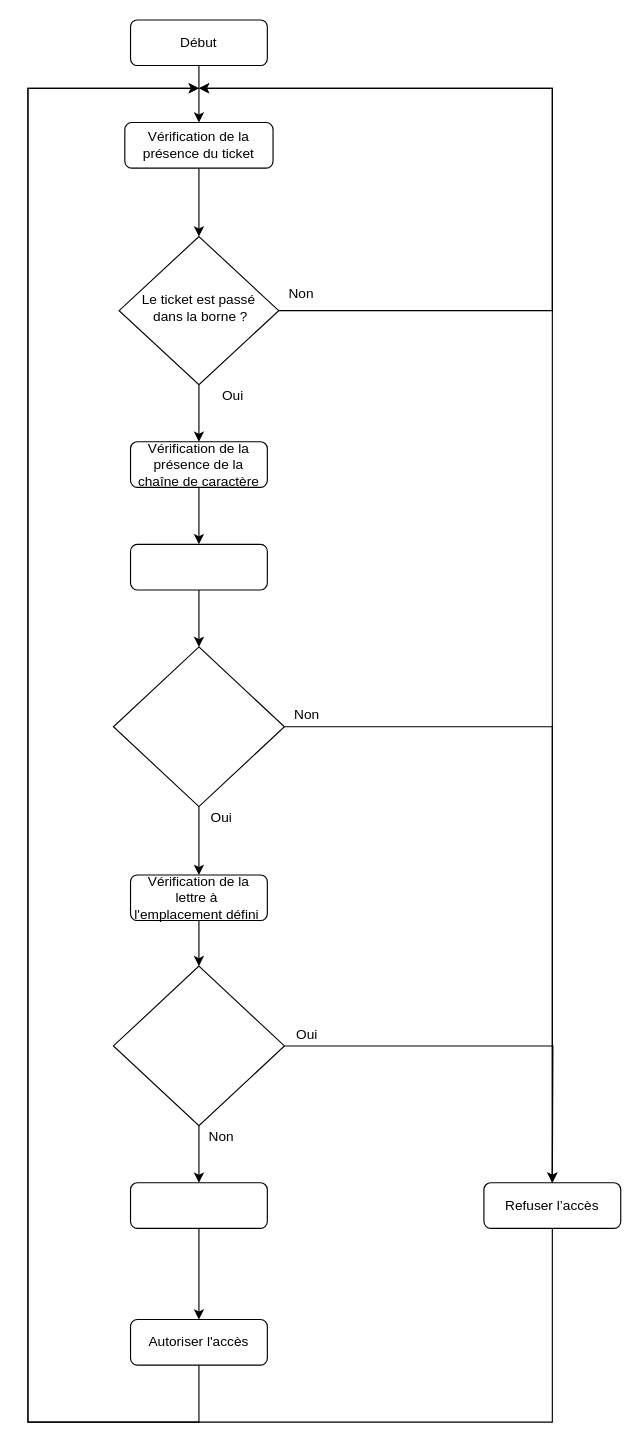
The diagram is 641 pixels wide and 1451 high, and some of its shapes have lost their labels. The centre of each missing label's shape, as x and y in pixels:
Comparaison de la chaîne de caractère: the point at 198,566
Inscription de la lettre défini à l'endroit défini: the point at 198,1205
La chaîne de caractère correspond a celle qu'on a prédéfini ?: the point at 198,726
La lettre est-elle présente à l'endroit défini ?: the point at 198,1045
